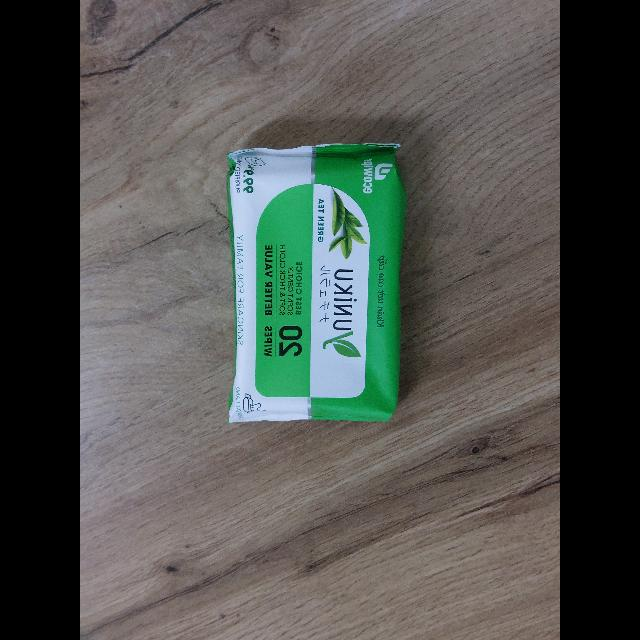khan_giay: (227, 144, 407, 422)
